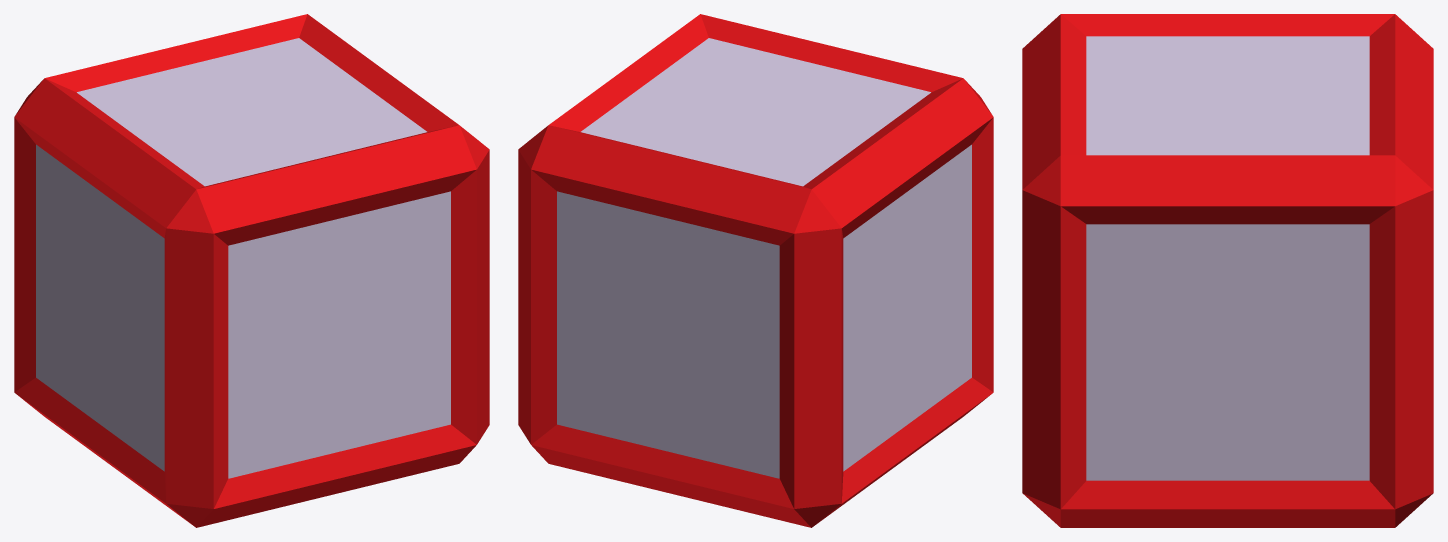
File: Powerups_New_0.fbx
3 views of the same model, side by side, from view 1: azimuth 30°, elevation 25°; view 2: azimuth 150°, elevation 25°; view 3: azimuth 270°, elevation 25° (orthographic). The views are drawn at different scales.
Visible parts, largest first — view 1: New; view 2: New; view 3: New.
Boxes of the visible parts, bbox=[...] form: New: bbox=[14, 14, 489, 527]; New: bbox=[518, 14, 993, 527]; New: bbox=[1022, 14, 1433, 527].
Bounding box in the file's own units: 200 × 200 × 200.
